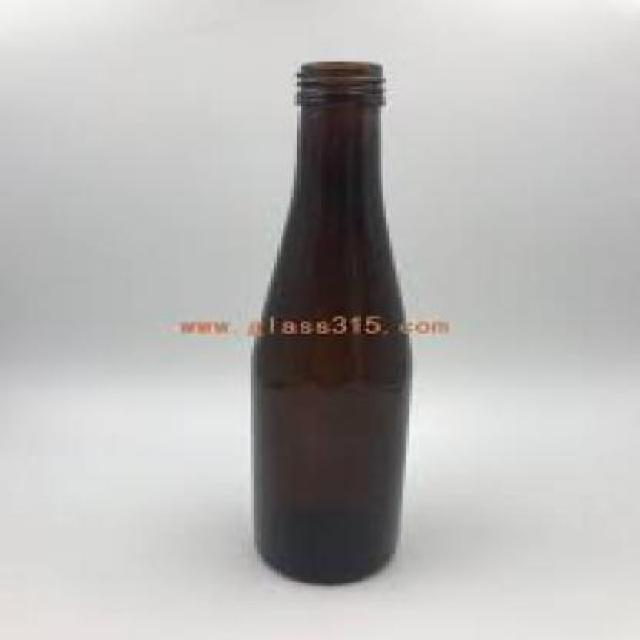kaca: (248, 62, 409, 583)
